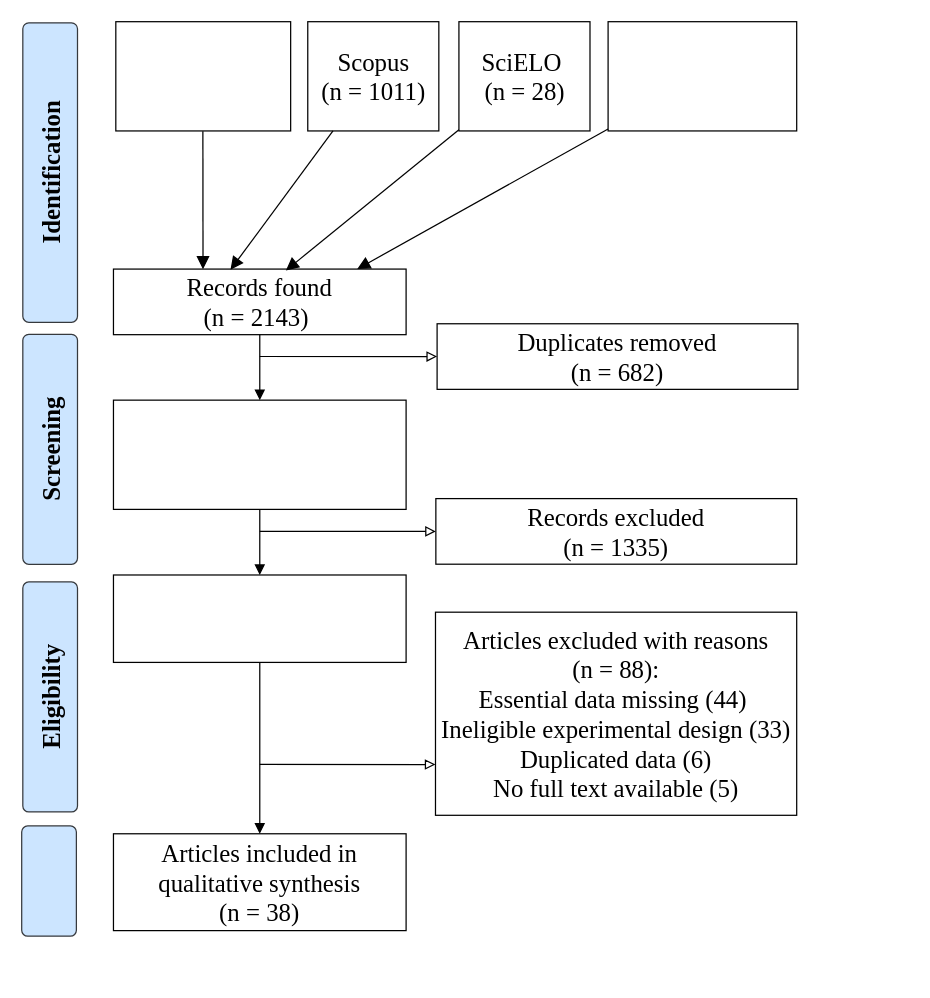
The diagram is 930 pixels wide and 998 high, and some of its shapes have lost their labels. The box of each missing label's shape, as (x1, y1, x2, y2) in pixels:
Full-text articles assessed (n = 126): (112, 574, 406, 662)
Included: (20, 825, 76, 936)
Records screened on title and abstract (n = 1461): (112, 399, 406, 509)
References from reviews (n = 6): (607, 20, 797, 131)
Web of Science (n = 1098): (115, 20, 291, 131)
